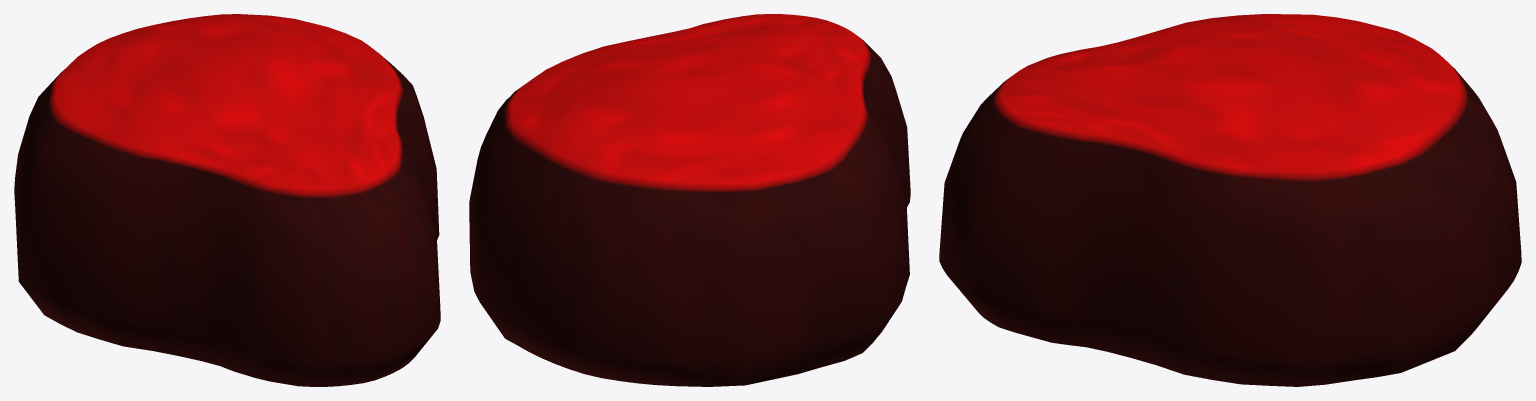
File: geology-landforms-icehilltiny_v1.fbx
3 renders of one model, left to right at view 1: azimuth 30°, elevation 25°; view 2: azimuth 150°, elevation 25°; view 3: azimuth 270°, elevation 25°, orthographic. The views are drawn at different scales.
Parts seen in each view (by area): view 1: IceHillTiny_v1; view 2: IceHillTiny_v1; view 3: IceHillTiny_v1.
Part boxes in pixels (x1,y1,x2,y2): IceHillTiny_v1: (14,14,440,386); IceHillTiny_v1: (469,14,910,386); IceHillTiny_v1: (939,14,1521,386).
Size of the model in its own units: 29.41 by 15.54 by 35.33.
